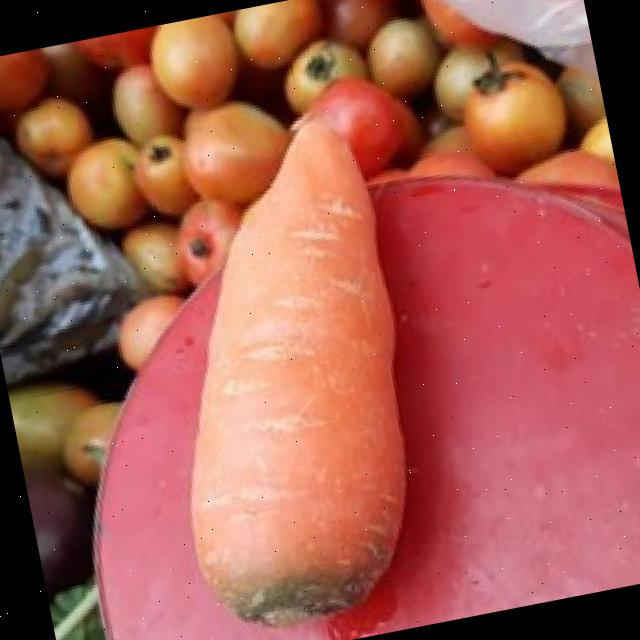carrot: (191, 119, 406, 624)
